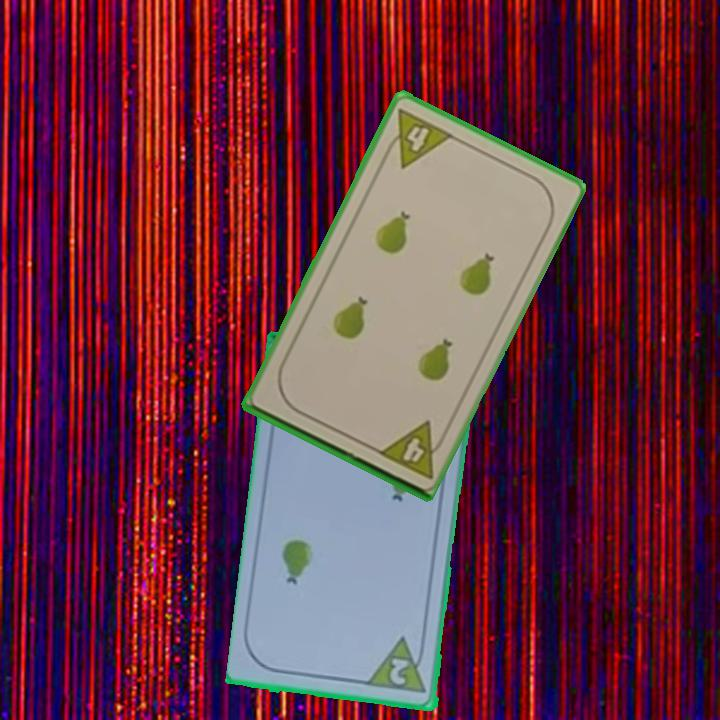2p: (386, 655, 412, 689)
4p: (378, 105, 456, 171), (373, 417, 451, 482)
